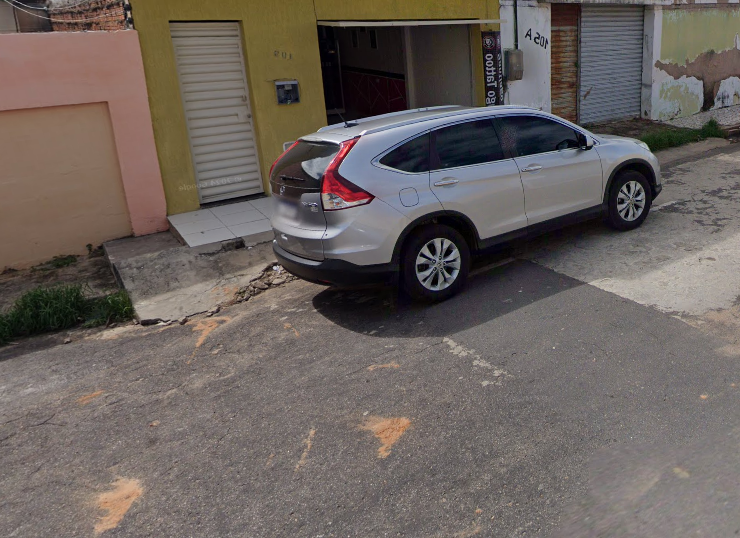car: (262, 91, 670, 306)
